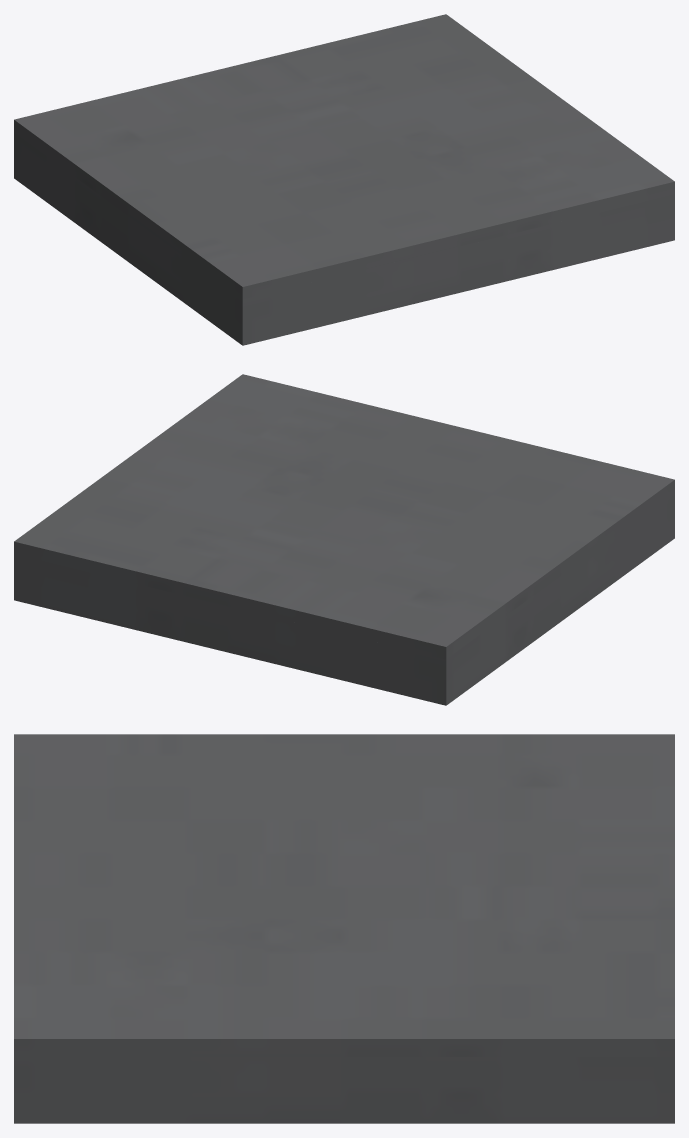
File: Music_CD_case__0000.glb
3 views of the same model, one above another, from view 1: azimuth 30°, elevation 25°; view 2: azimuth 150°, elevation 25°; view 3: azimuth 270°, elevation 25° (orthographic). The views are drawn at different scales.
Visible parts, largest first — view 1: lid::lid_shell, base::base_frame; view 2: lid::lid_shell, base::base_frame; view 3: lid::lid_shell, base::base_frame.
Part boxes in pixels (x1,y1,x2,y2): lid::lid_shell: [14, 14, 674, 299]; base::base_frame: [14, 132, 674, 345]; lid::lid_shell: [14, 374, 674, 659]; base::base_frame: [14, 492, 674, 705]; lid::lid_shell: [14, 734, 674, 1056]; base::base_frame: [14, 1057, 674, 1123].
Bounding box in the file's own units: 0.1444 × 0.0188 × 0.1324.
4 materials, 1 textured.
